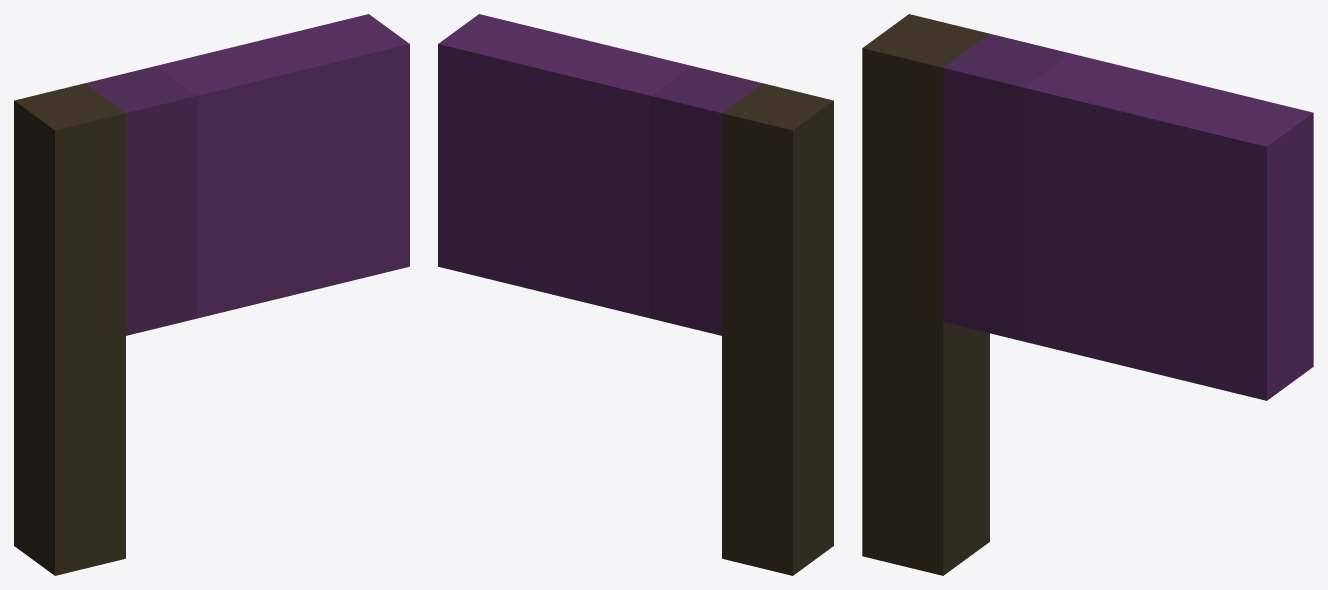
File: overworld-2-props_flagpurple.obj
The picture shows the model from 3 angles, left to right: view 1: azimuth 30°, elevation 25°; view 2: azimuth 150°, elevation 25°; view 3: azimuth 330°, elevation 25°; orthographic projection. The views are drawn at different scales.
Visible parts, largest first — view 1: props_flagpurple; view 2: props_flagpurple; view 3: props_flagpurple.
Boxes of the visible parts, x1=… form: props_flagpurple: x1=14, y1=14, x2=409, y2=575; props_flagpurple: x1=438, y1=14, x2=833, y2=575; props_flagpurple: x1=862, y1=14, x2=1313, y2=575.
Bounding box in the file's own units: 0.5 × 0.6 × 0.1.
Materials: 1 (1 with a texture image).
